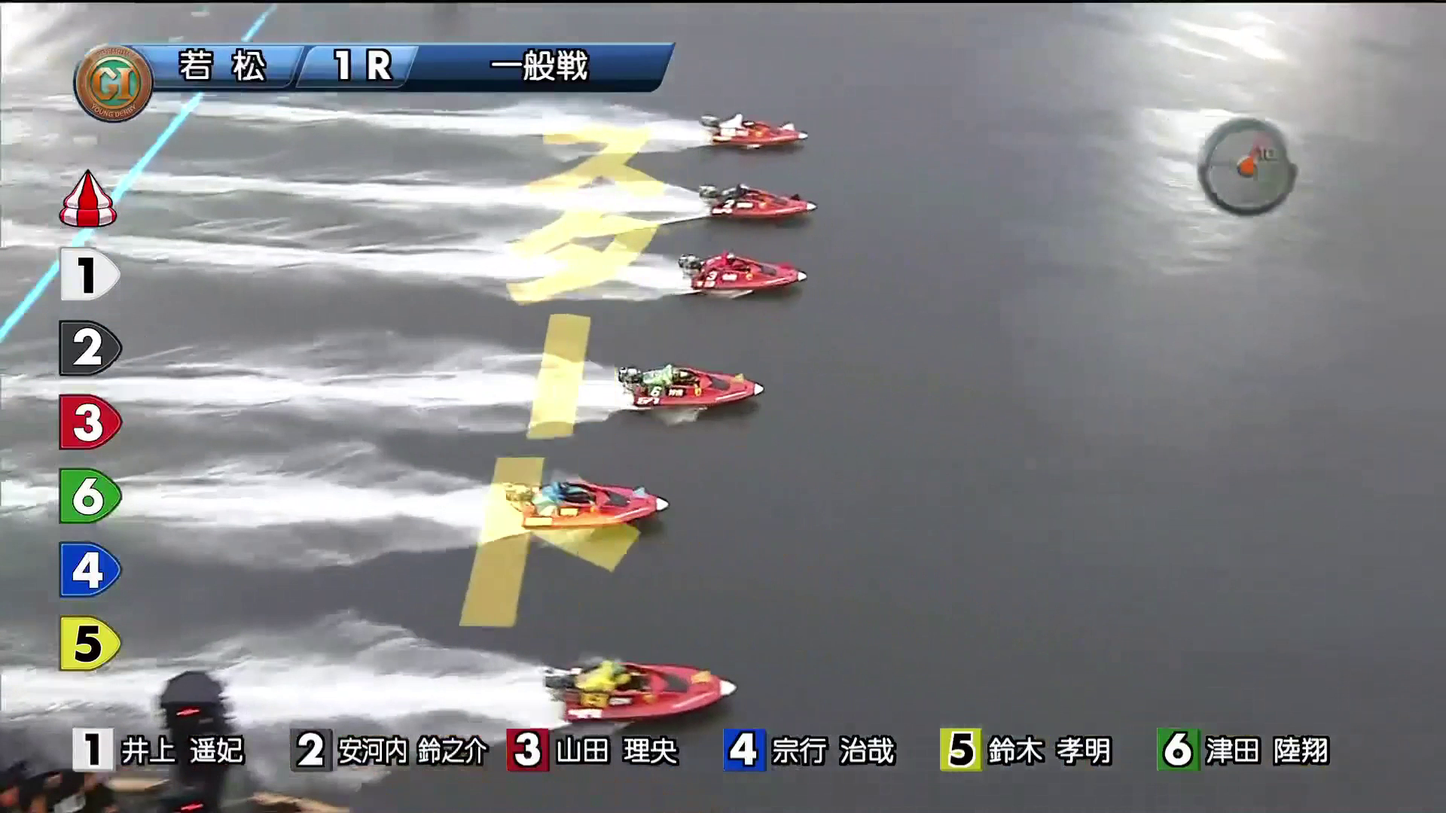１号艇: (740, 109, 798, 156)
２号艇: (706, 187, 809, 225)
３号艇: (686, 255, 812, 296)
４号艇: (659, 360, 764, 403)
５号艇: (533, 475, 653, 530)
６号艇: (559, 658, 717, 714)
